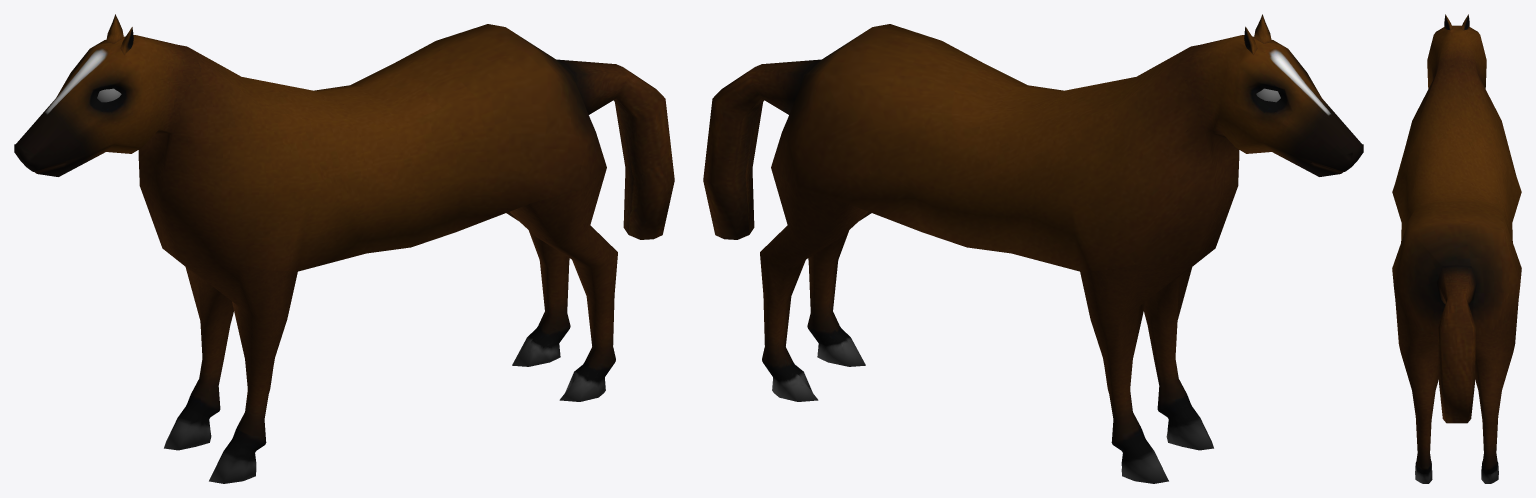
File: Hourse_FBX.FBX
3 renders of one model, left to right at view 1: azimuth 30°, elevation 25°; view 2: azimuth 150°, elevation 25°; view 3: azimuth 270°, elevation 25°, orthographic. The views are drawn at different scales.
Visible parts, largest first — view 1: Hourse_body; view 2: Hourse_body; view 3: Hourse_body.
Part boxes in pixels (x1,y1,x2,y2): Hourse_body: (14,14,674,483); Hourse_body: (703,14,1363,483); Hourse_body: (1392,14,1521,483).
Size of the model in its own units: 39.02 by 26.68 by 9.87.
